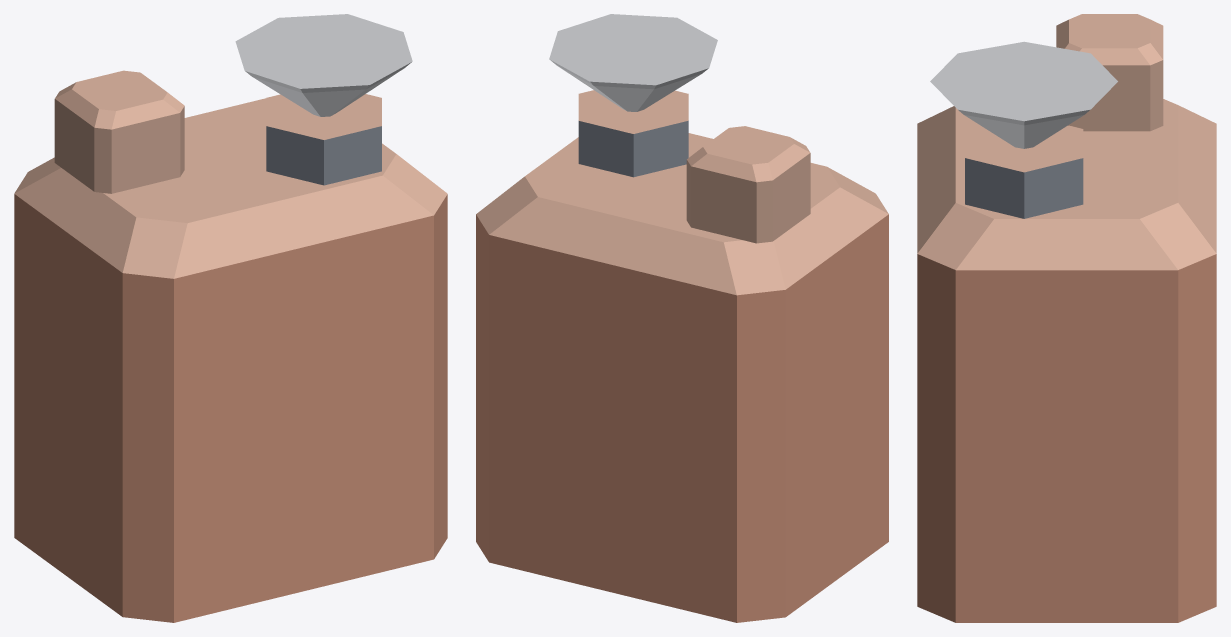
Rendered from Building2.glb.
3 views of the same model, side by side, from view 1: azimuth 30°, elevation 25°; view 2: azimuth 150°, elevation 25°; view 3: azimuth 270°, elevation 25° (orthographic). The views are drawn at different scales.
Parts seen in each view (by area): view 1: Building2; view 2: Building2; view 3: Building2.
Part boxes in pixels (x1,y1,x2,y2): Building2: (14, 14, 447, 622); Building2: (476, 14, 888, 622); Building2: (917, 14, 1216, 622).
Size of the model in its own units: 9 by 12.8 by 7.
